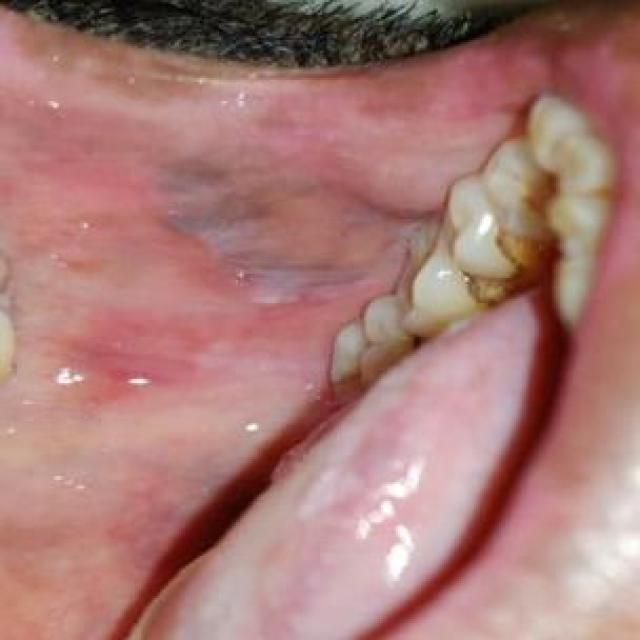leukoplakia-detection: (141, 124, 432, 326)
processing_area: (0, 31, 638, 638), (131, 299, 532, 638)
